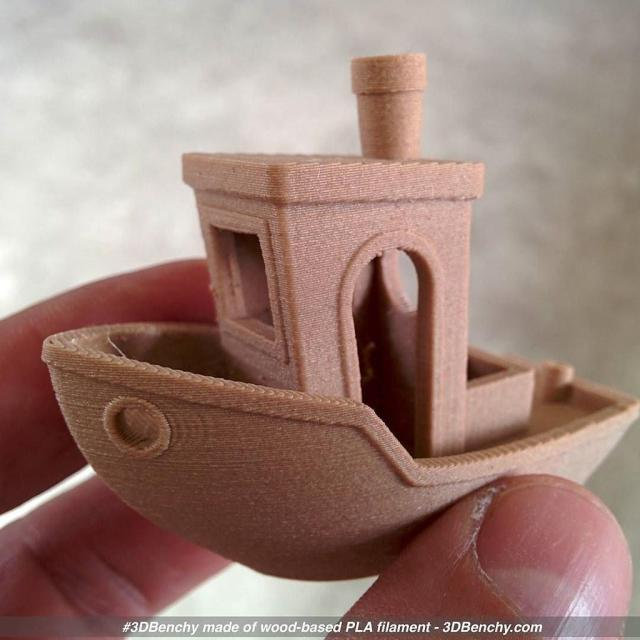Without deffect: (37, 30, 640, 586)
